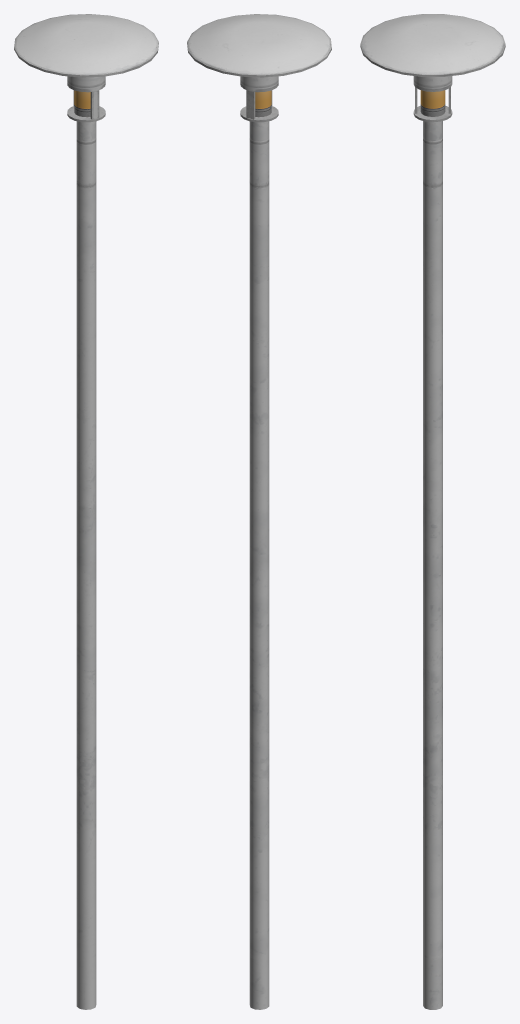
File: MB_Beach_Lamp_01.fbx
3 renders of one model, left to right at view 1: azimuth 30°, elevation 25°; view 2: azimuth 150°, elevation 25°; view 3: azimuth 270°, elevation 25°, orthographic.
Parts seen in each view (by area): view 1: MB_Beach_Lamp_01_LOD0; view 2: MB_Beach_Lamp_01_LOD0; view 3: MB_Beach_Lamp_01_LOD0.
Part boxes in pixels (box(x1,y1,x2,y2)): MB_Beach_Lamp_01_LOD0: box(14, 14, 158, 1009); MB_Beach_Lamp_01_LOD0: box(187, 14, 331, 1009); MB_Beach_Lamp_01_LOD0: box(360, 14, 505, 1009).
Size of what is drawn, in the model's own units: 46.39 by 345 by 46.86.
